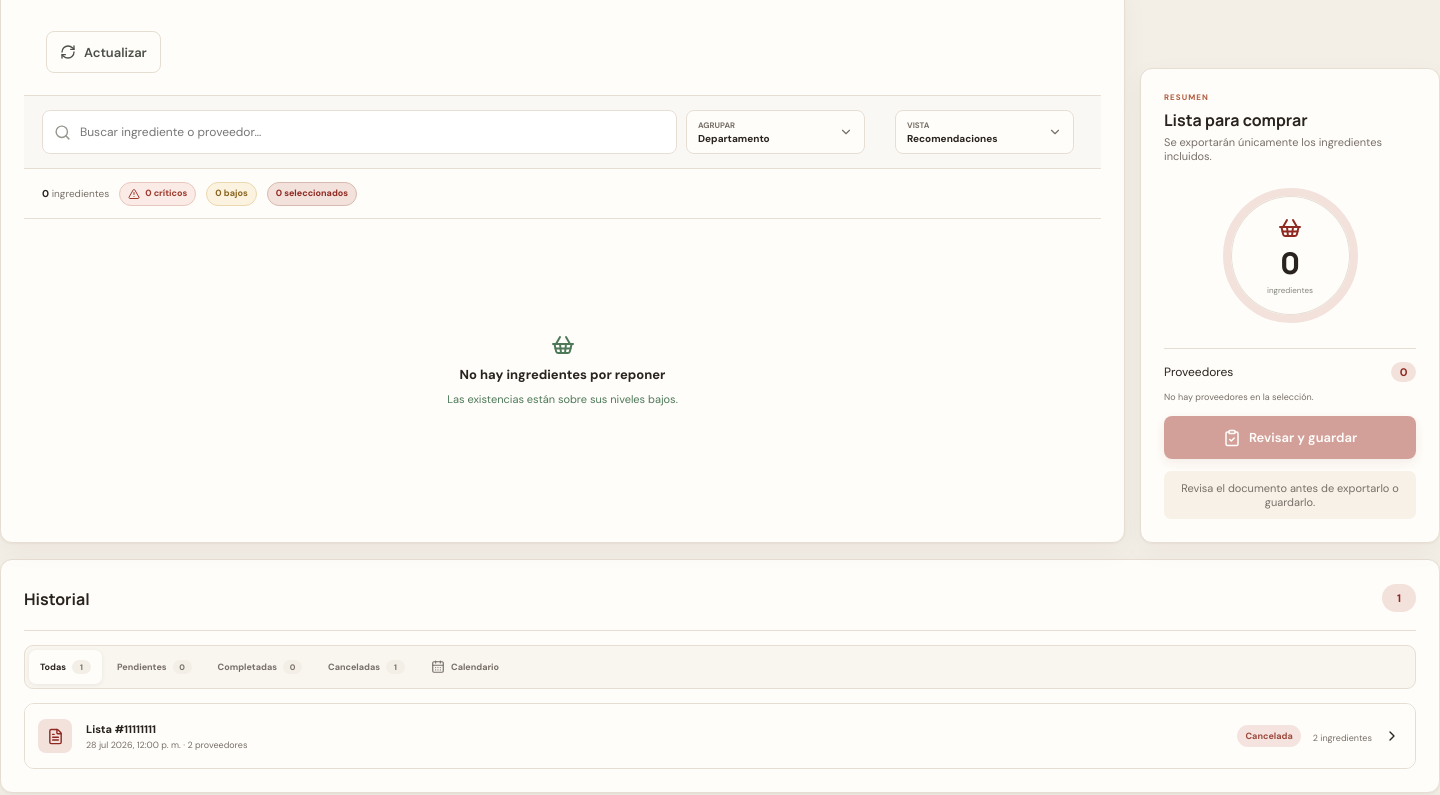
Scenario: ShoppingPage purchase receipt review › shows cancelled orders separately in history
Expected: the text "Cancelada" is shown, [1238,725,1301,747]
Click the tab "Canceladas 1" at (366, 667), box [317,650,416,684]
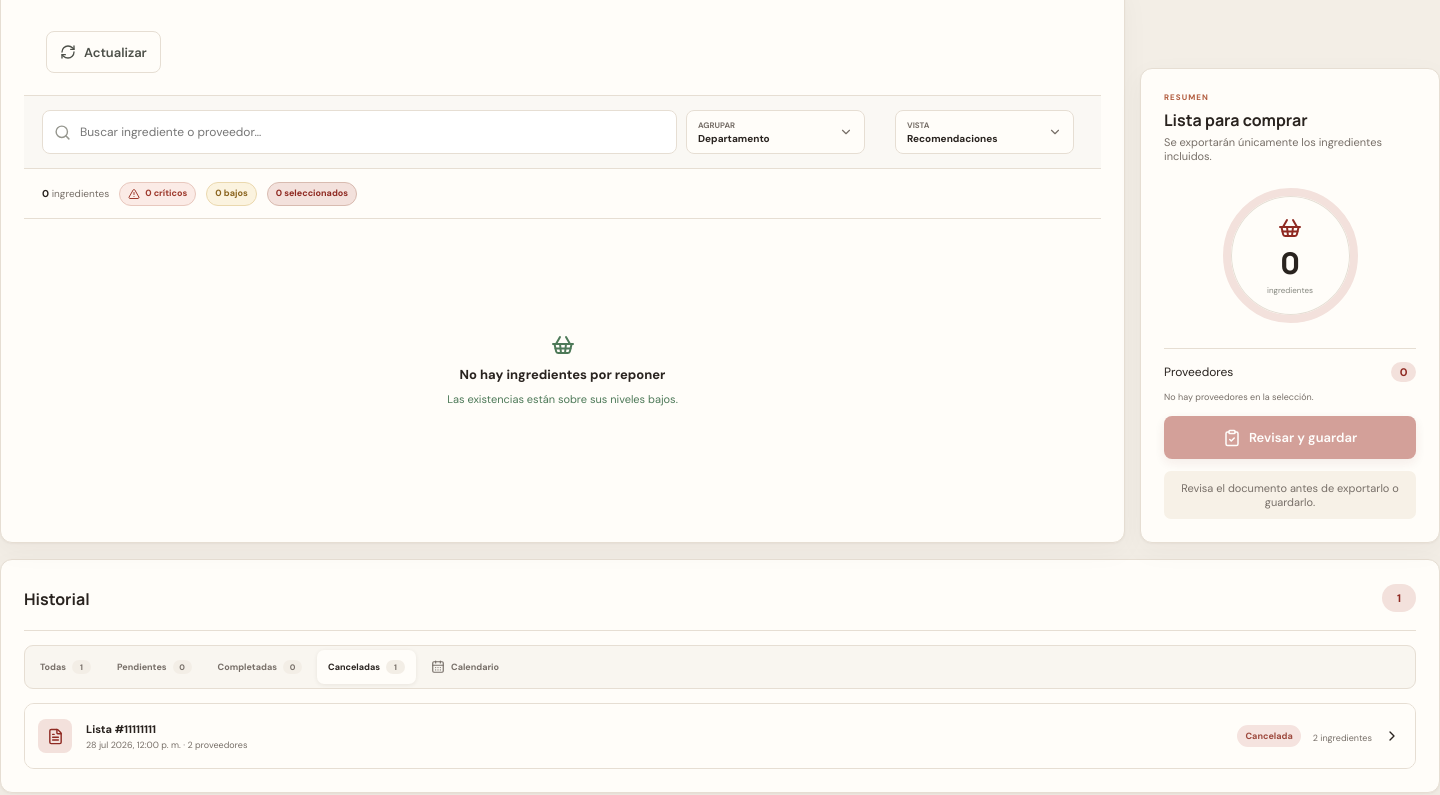
Click the button "Lista #11111111" at (55, 736), box [25,704,1415,768]
(page scrolled)
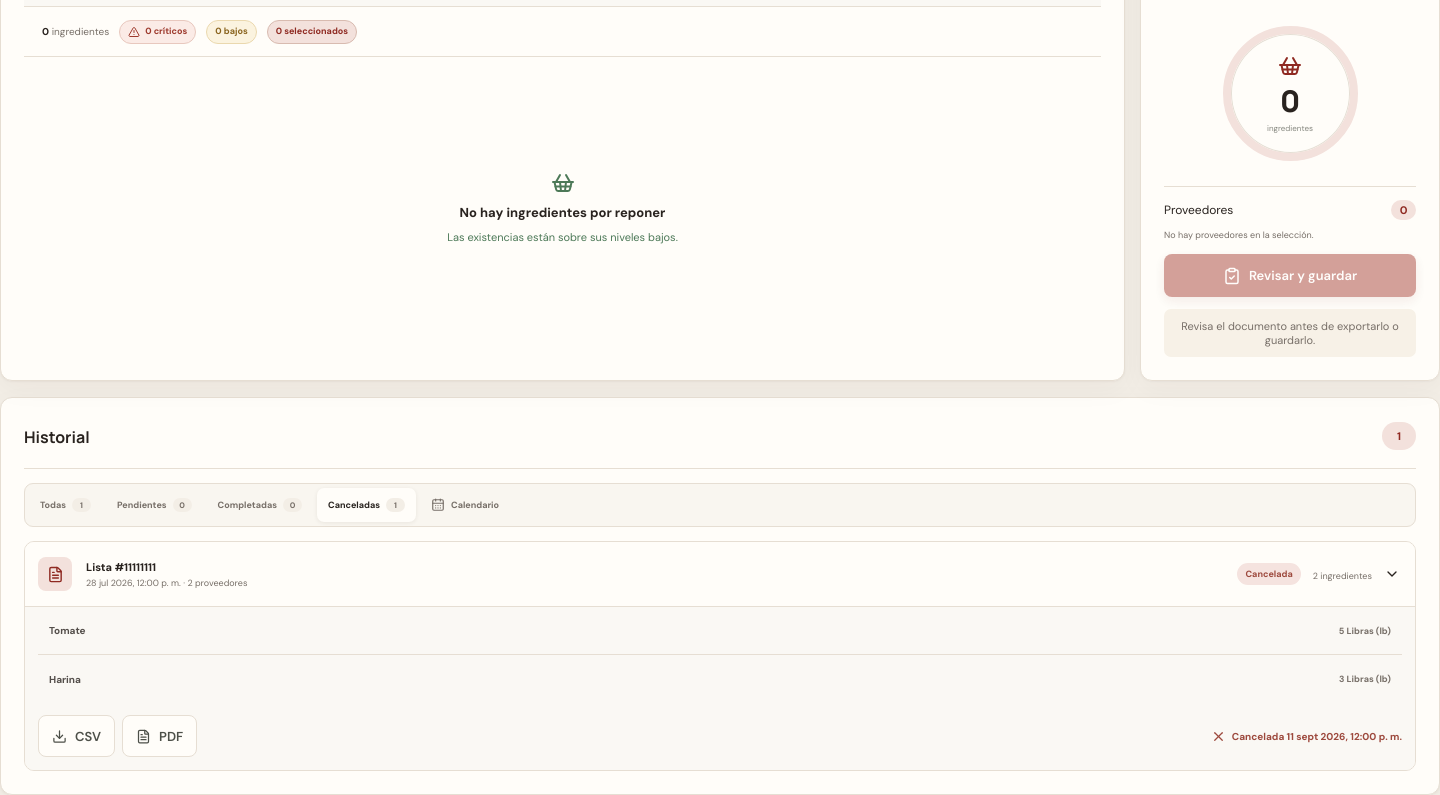
Expected: the text "Cancelada 11 sept 2026, 12:00 p. m." is shown, [1211,728,1402,744]
